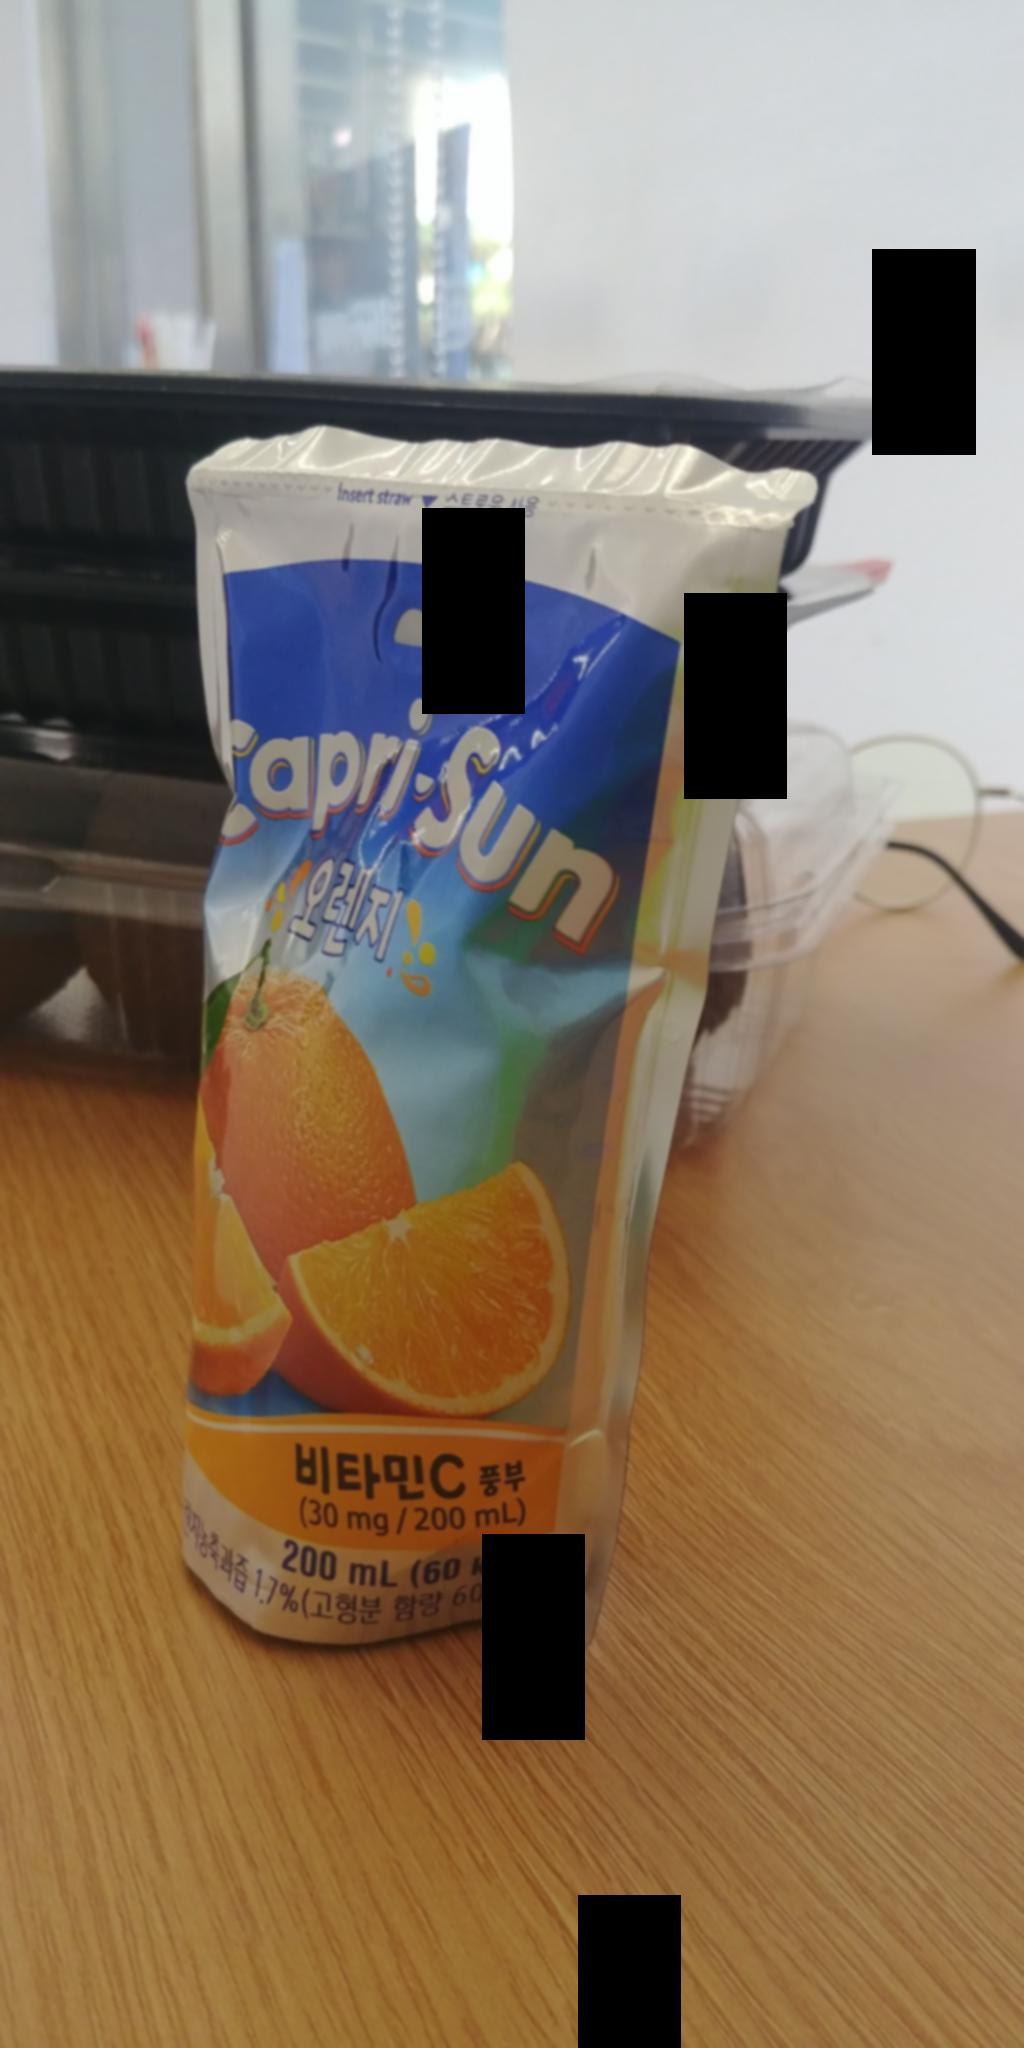cafrisun: (142, 415, 831, 1724)
